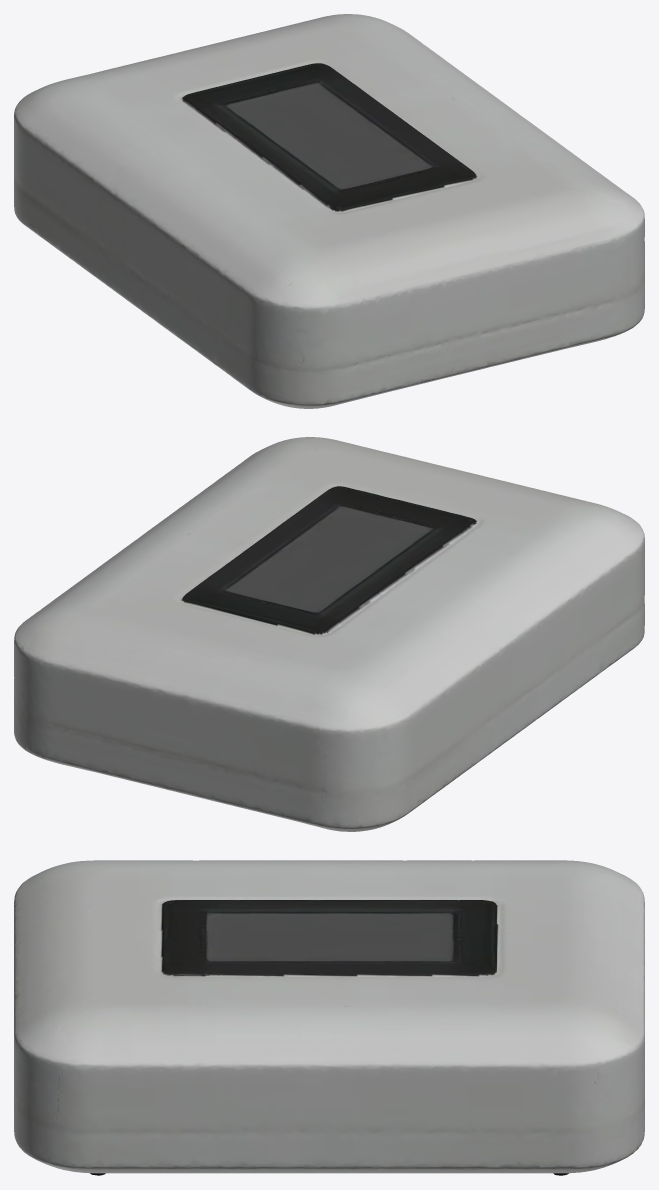
Rendered from motiq-entire.glb.
3 renders of one model, top to bottom at view 1: azimuth 30°, elevation 25°; view 2: azimuth 150°, elevation 25°; view 3: azimuth 270°, elevation 25°, orthographic. The views are drawn at different scales.
Parts seen in each view (by area): view 1: world; view 2: world; view 3: world.
Boxes of the visible parts, x1,y1,x2,y2 form: world: (14,14,644,408); world: (14,437,644,831); world: (14,860,644,1175).
Bounding box in the file's own units: 0.753 × 0.2936 × 1.
Materials: 1 (1 with a texture image).
